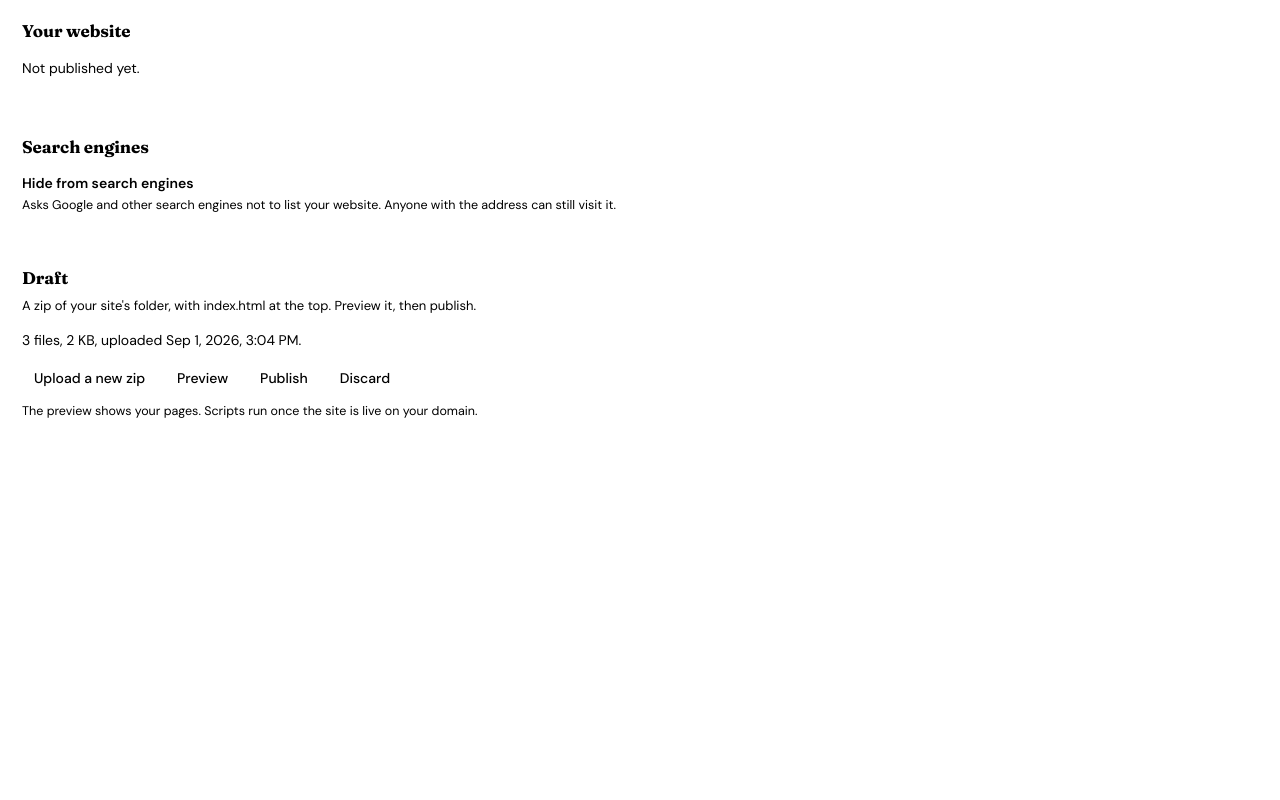
Test: WebsitePage › publishes the draft
Step 1. Click the button "Publish" → {"x": 284, "y": 378}, box [248, 362, 320, 394]
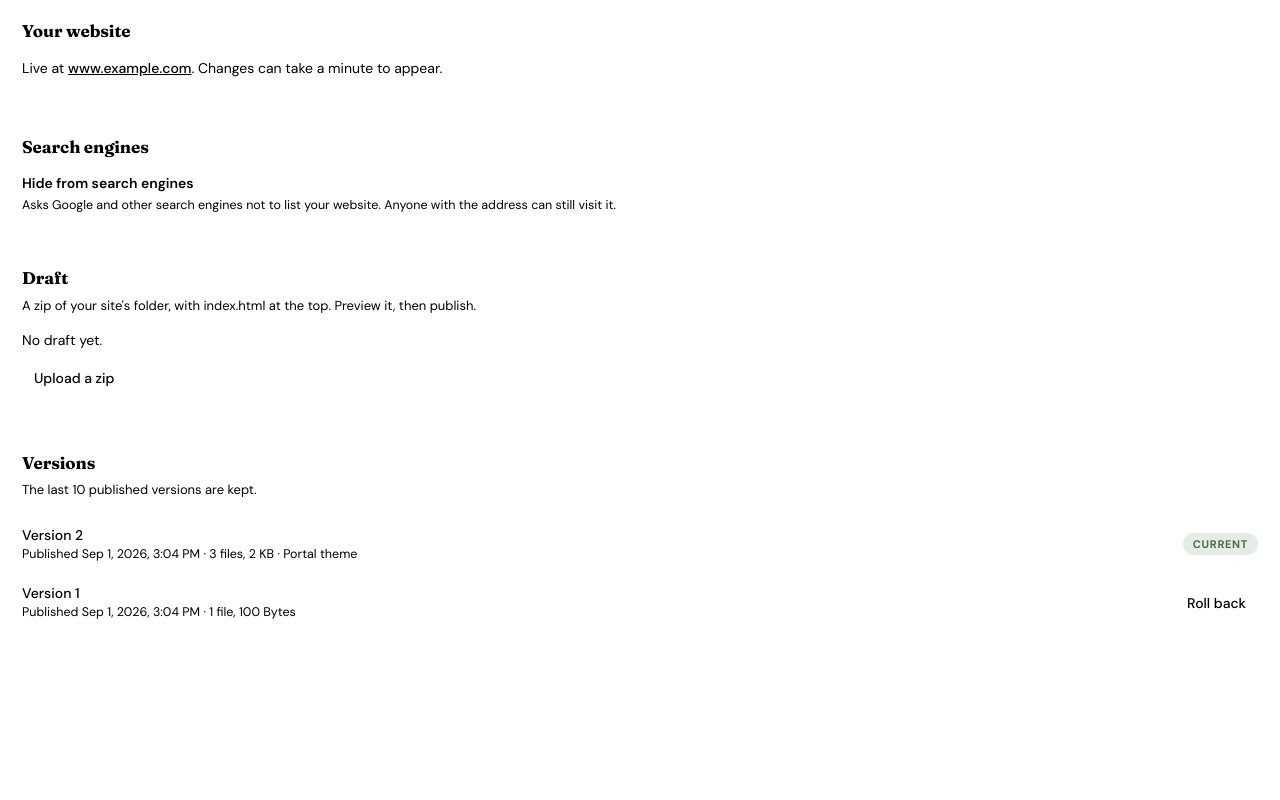
Check: the element with test id "website-live" shows "Live at www.example.com", box [22, 58, 442, 76]
